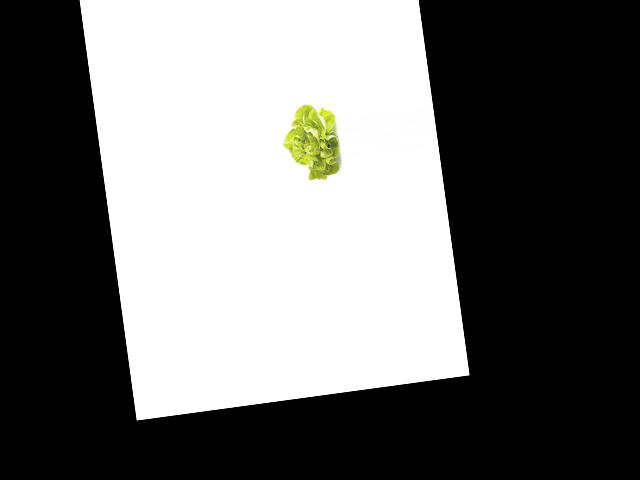lettuce: (278, 98, 344, 185)
